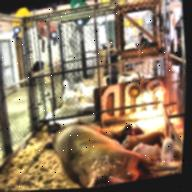boar: (37, 102, 180, 190)
